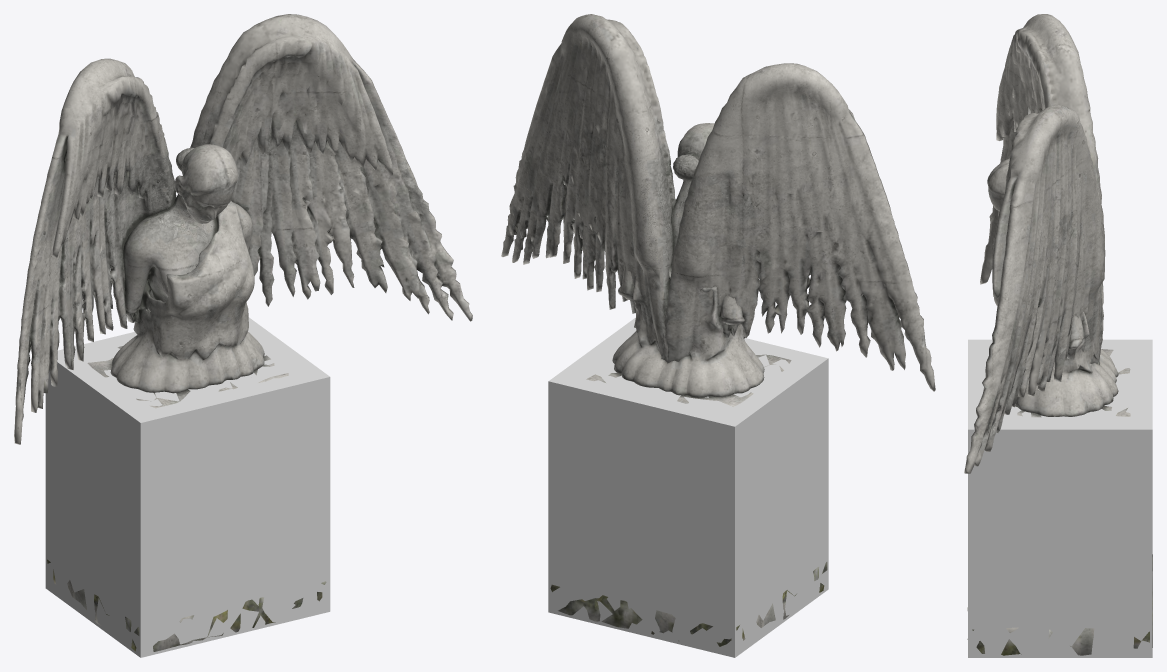
The model's file is statue_angel_hero_bust_v1.glb.
3 renders of one model, left to right at view 1: azimuth 30°, elevation 25°; view 2: azimuth 150°, elevation 25°; view 3: azimuth 270°, elevation 25°, orthographic. The views are drawn at different scales.
Visible parts, largest first — view 1: statue_angel_hero_bust, col_base; view 2: statue_angel_hero_bust, col_base; view 3: col_base, statue_angel_hero_bust.
Boxes of the visible parts, left/top/right/bottom form: statue_angel_hero_bust: left=14, top=14, right=472, bottom=651; col_base: left=45, top=317, right=330, bottom=657; statue_angel_hero_bust: left=501, top=14, right=935, bottom=646; col_base: left=548, top=317, right=828, bottom=657; col_base: left=968, top=339, right=1152, bottom=657; statue_angel_hero_bust: left=964, top=14, right=1152, bottom=655.
Bounding box in the file's own units: 1.69 × 2.04 × 0.6343.
Materials: 1 (1 with a texture image).
